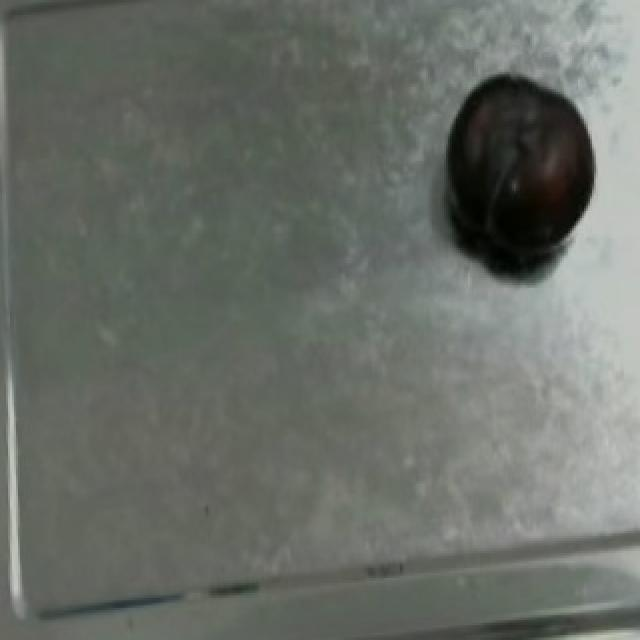Fruit: (428, 60, 616, 285)
